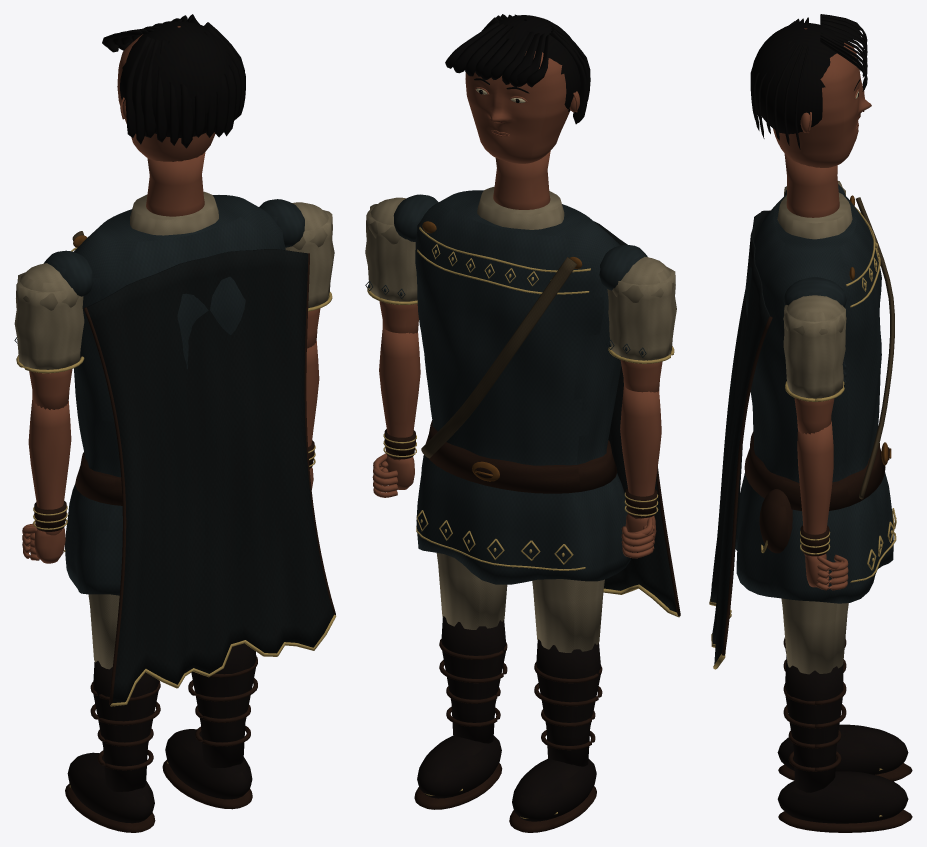
Rendered from traveler_lod0.glb.
The picture shows the model from 3 angles, left to right: view 1: azimuth 30°, elevation 25°; view 2: azimuth 150°, elevation 25°; view 3: azimuth 270°, elevation 25°; orthographic projection. The views are drawn at different scales.
Parts seen in each view (by area): view 1: Traveler_Torso.001, Traveler_Head.001, Traveler_UpperArm_0.001, Traveler_Shin_0.001, Traveler_Shin_1.001, Traveler_Forearm_0.001, Traveler_Foot_1.001, Traveler_Foot_0.001, Traveler_UpperArm_1.001, Traveler_Thigh_0.001, Traveler_Hand_0.001, Traveler_Forearm_1.001; view 2: Traveler_Torso.001, Traveler_Head.001, Traveler_UpperArm_0.001, Traveler_Shin_1.001, Traveler_Shin_0.001, Traveler_UpperArm_1.001, Traveler_Foot_0.001, Traveler_Foot_1.001, Traveler_Thigh_0.001, Traveler_Forearm_0.001, Traveler_Forearm_1.001, Traveler_Thigh_1.001 (+2 smaller); view 3: Traveler_Torso.001, Traveler_Head.001, Traveler_UpperArm_1.001, Traveler_Foot_1.001, Traveler_Shin_1.001, Traveler_Thigh_1.001, Traveler_Forearm_1.001, Traveler_Foot_0.001, Traveler_Hand_1.001.
Part boxes in pixels (<box>): Traveler_Torso.001: <box>44,152,336,706</box>; Traveler_Head.001: <box>102,14,245,161</box>; Traveler_UpperArm_0.001: <box>14,263,84,409</box>; Traveler_Shin_0.001: <box>90,661,160,791</box>; Traveler_Shin_1.001: <box>188,643,257,768</box>; Traveler_Forearm_0.001: <box>28,397,71,535</box>; Traveler_Foot_1.001: <box>162,729,252,809</box>; Traveler_Foot_0.001: <box>65,752,155,832</box>; Traveler_UpperArm_1.001: <box>285,202,334,348</box>; Traveler_Thigh_0.001: <box>88,594,119,669</box>; Traveler_Hand_0.001: <box>22,523,65,563</box>; Traveler_Forearm_1.001: <box>306,341,319,469</box>; Traveler_Torso.001: <box>393,151,680,617</box>; Traveler_Head.001: <box>445,14,590,163</box>; Traveler_UpperArm_0.001: <box>606,256,676,392</box>; Traveler_Shin_1.001: <box>439,616,507,743</box>; Traveler_Shin_0.001: <box>534,639,602,766</box>; Traveler_UpperArm_1.001: <box>365,197,418,333</box>; Traveler_Foot_0.001: <box>509,759,596,832</box>; Traveler_Foot_1.001: <box>414,735,502,809</box>; Traveler_Thigh_0.001: <box>532,579,604,652</box>; Traveler_Forearm_0.001: <box>620,385,661,519</box>; Traveler_Forearm_1.001: <box>379,327,420,460</box>; Traveler_Thigh_1.001: <box>436,553,507,629</box>; Traveler_Torso.001: <box>709,154,896,669</box>; Traveler_Head.001: <box>750,14,871,167</box>; Traveler_UpperArm_1.001: <box>783,295,846,434</box>; Traveler_Foot_1.001: <box>777,771,912,832</box>; Traveler_Shin_1.001: <box>783,656,846,792</box>; Traveler_Thigh_1.001: <box>781,598,848,674</box>; Traveler_Forearm_1.001: <box>797,421,833,556</box>; Traveler_Foot_0.001: <box>777,724,912,781</box>; Traveler_Hand_1.001: <box>805,554,848,590</box>.
Bounding box in the file's own units: 0.7571 × 1.83 × 0.4352.
2 materials, 2 textured.
